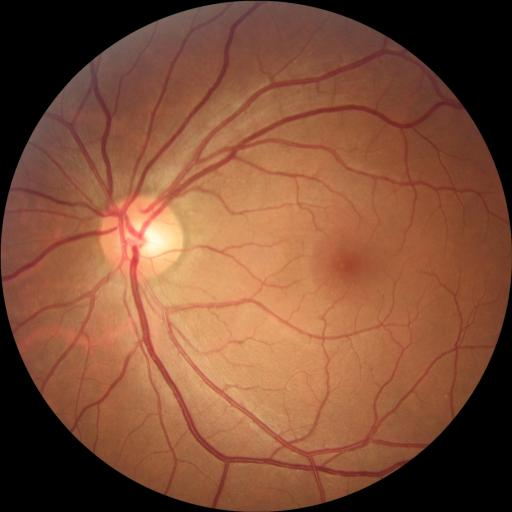Optic Cup: (127, 225, 162, 255)
Optic Disc: (100, 196, 184, 279)
